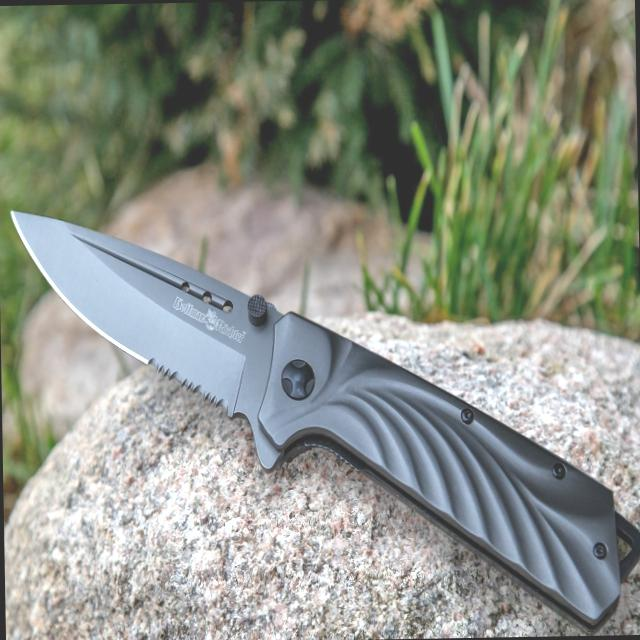knife: (5, 192, 294, 440)
